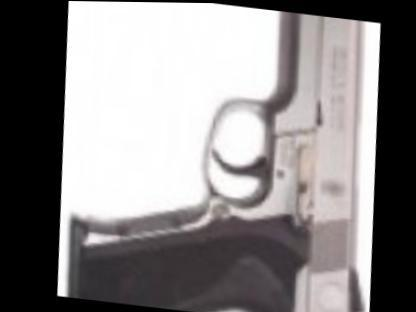pistol: (50, 0, 396, 311)
